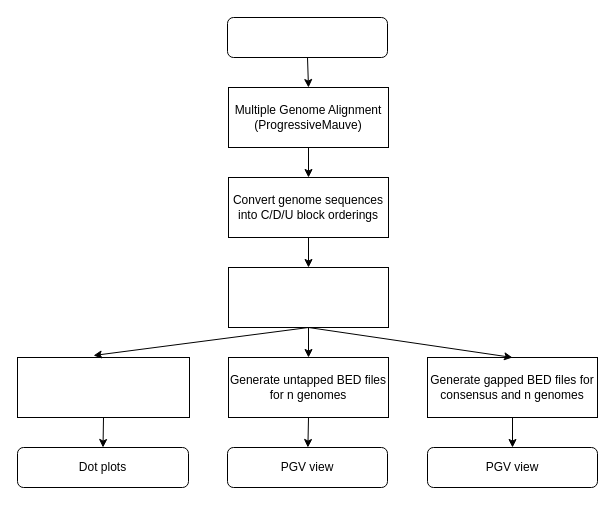
The diagram is 615 pixels wide and 505 high, and some of its shapes have lost their labels. The shapes that lost their labels are listed below. From the top down, each one's centre as x and y in pixels, then its label:
At point 307,37: "n genomes".
At point 308,297: "Build consensus ordering".
At point 103,387: "Compare n genomes' ordering with consensus ordering".
